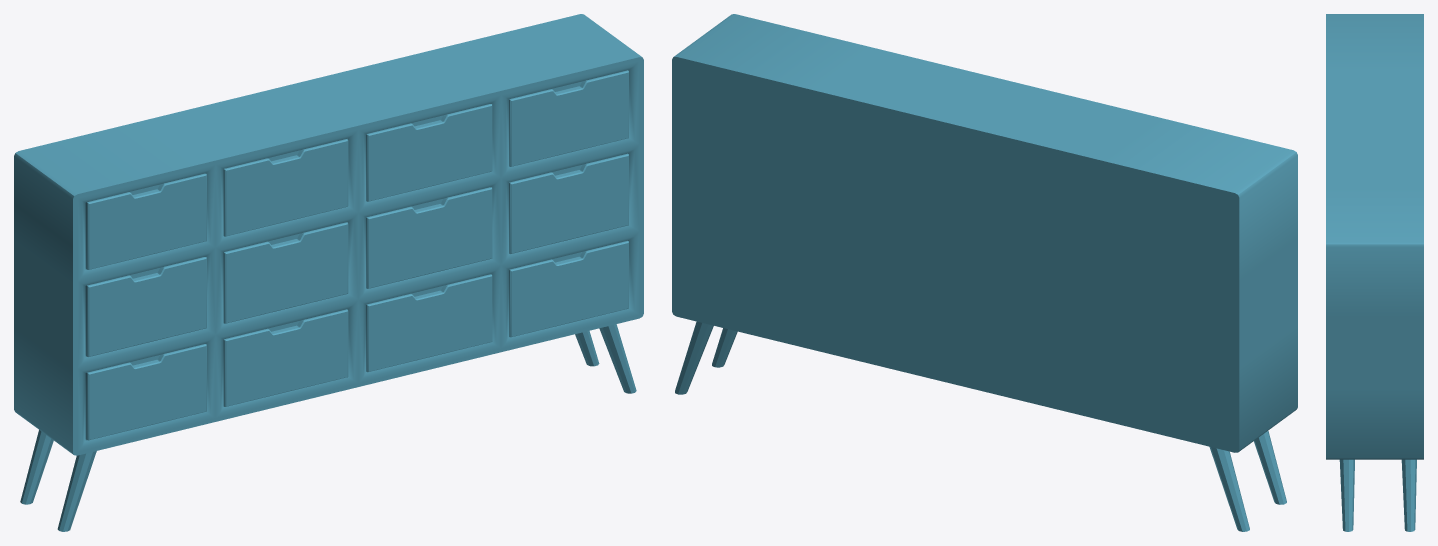
File: cajonera.FBX
3 renders of one model, left to right at view 1: azimuth 30°, elevation 25°; view 2: azimuth 150°, elevation 25°; view 3: azimuth 270°, elevation 25°, orthographic. The views are drawn at different scales.
Visible parts, largest first — view 1: Object; view 2: Object; view 3: Object.
Boxes of the visible parts, <box> form: Object: <box>14,14,643,531</box>; Object: <box>672,14,1297,531</box>; Object: <box>1326,14,1423,531</box>.
Size of the model in its own units: 2.07 by 1.18 by 0.3654.
